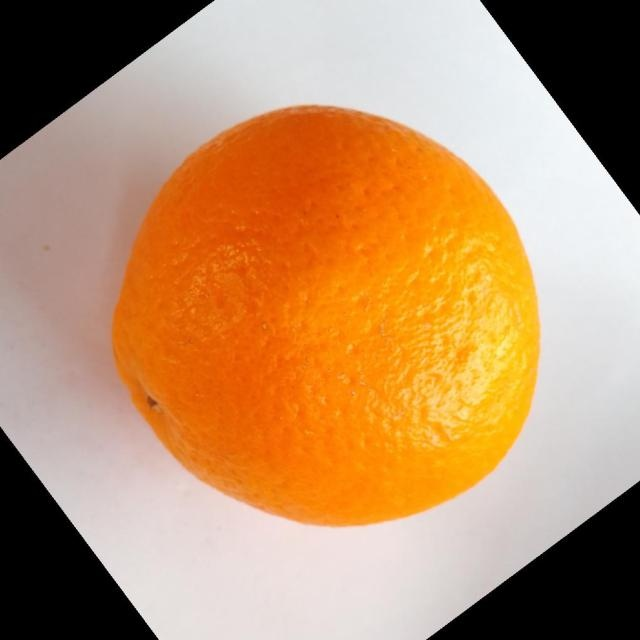agrume: (110, 102, 541, 528)
